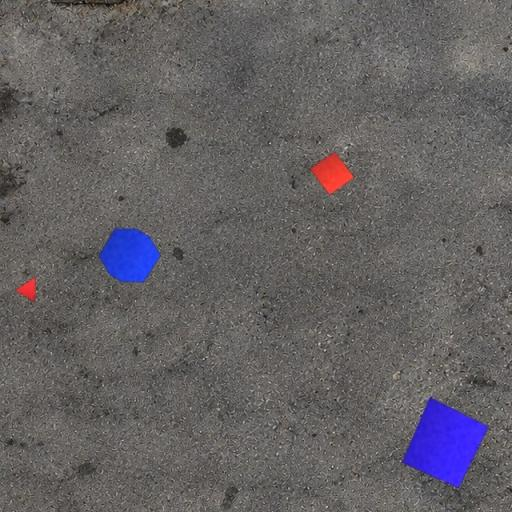BLUE_SQUARE: (401, 397, 489, 489)
RED_SQUARE: (309, 151, 355, 195)
